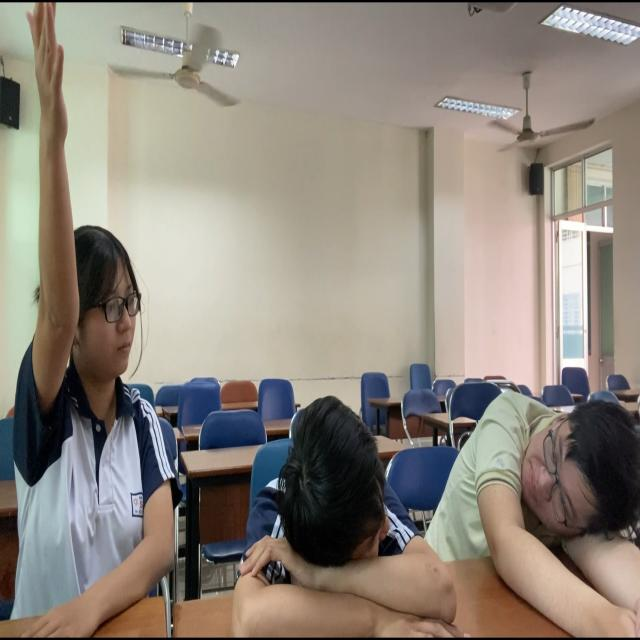raise_hand: (1, 1, 173, 640)
sleep: (232, 373, 456, 640), (429, 331, 640, 602)
